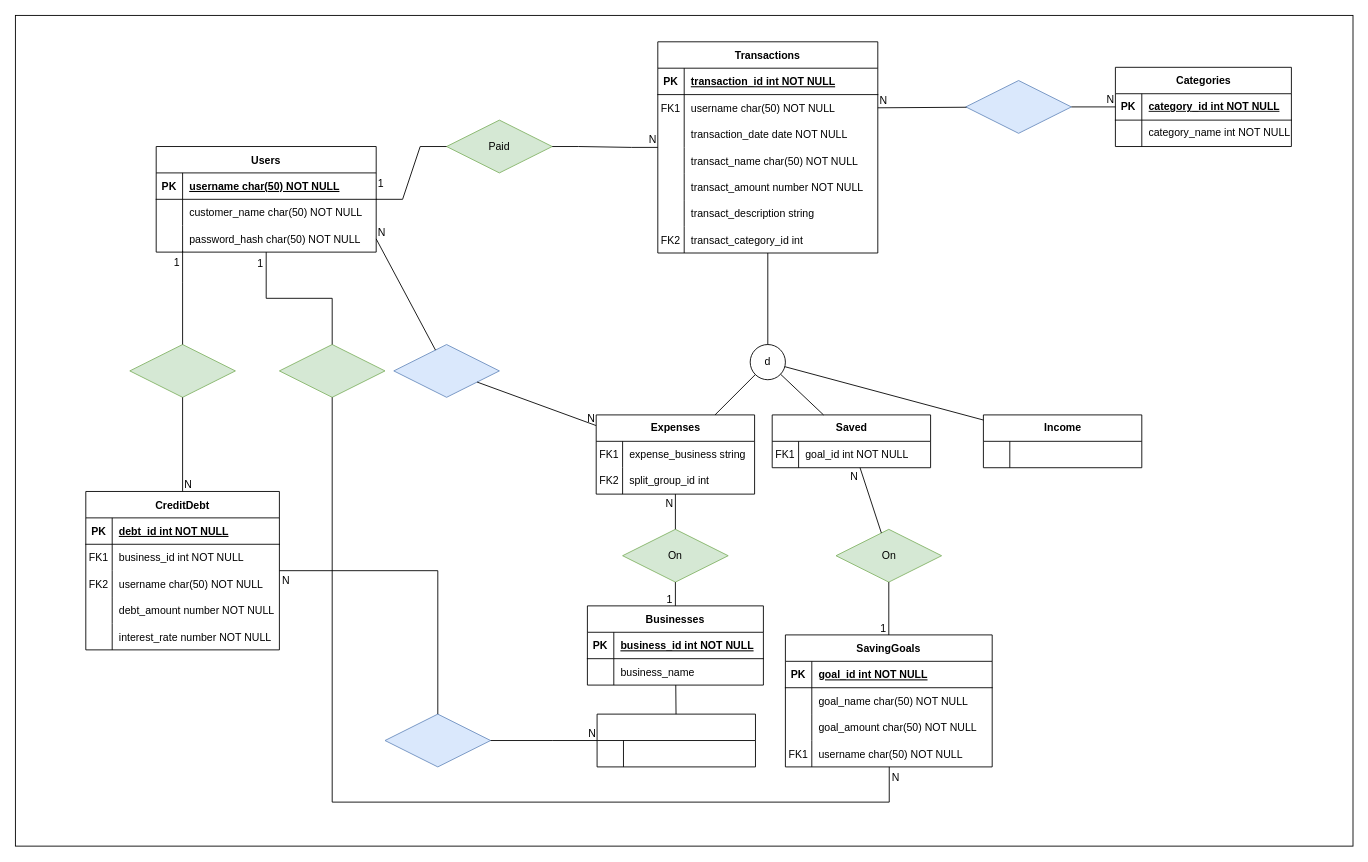
Some shapes in this 1368 by 862 pixel diagram are drawn without their labels. The centre of each missing label's shape, as x and y in pixels:
Belongs in: point (1018, 106)
CreditProviders: point (675, 740)
Owed to: point (437, 740)
Owes: point (182, 370)
Saves for: point (332, 370)
Split: point (446, 370)
